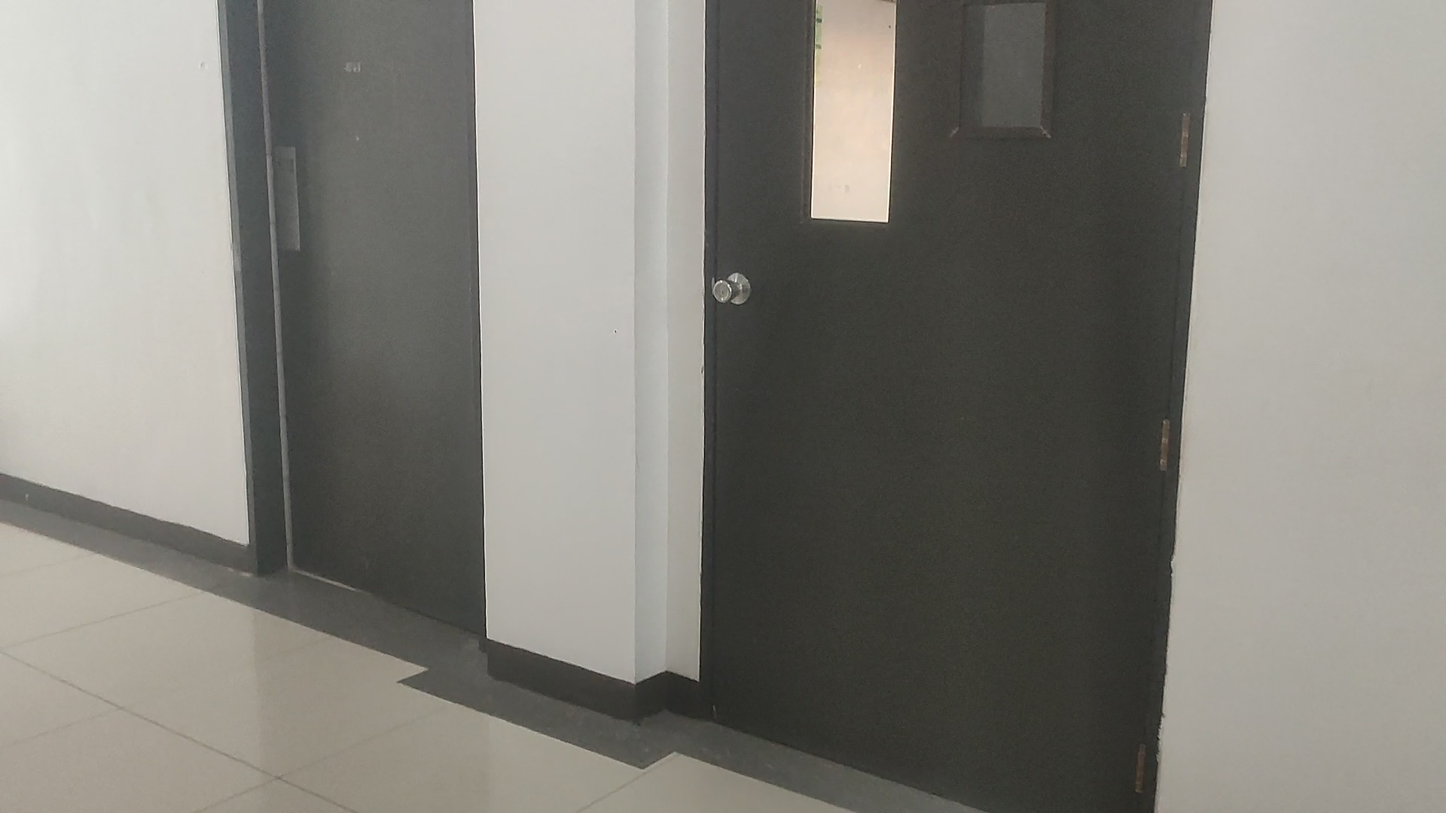door: (688, 0, 1212, 813), (208, 0, 487, 629)
